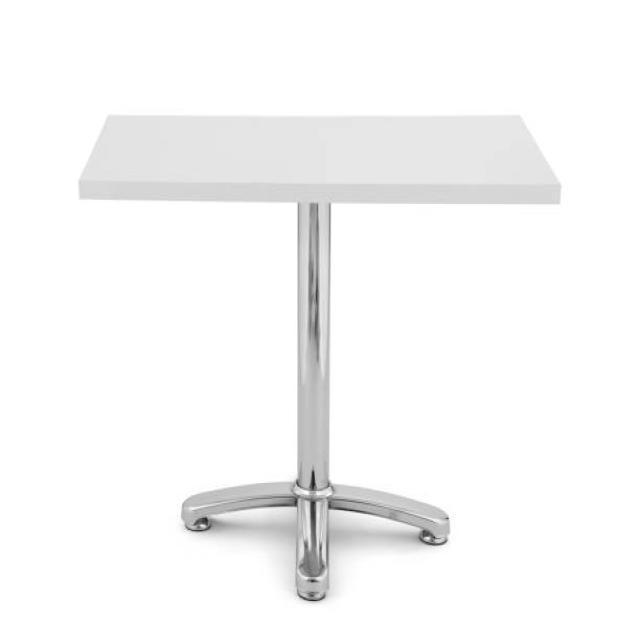table: (78, 111, 562, 601)
